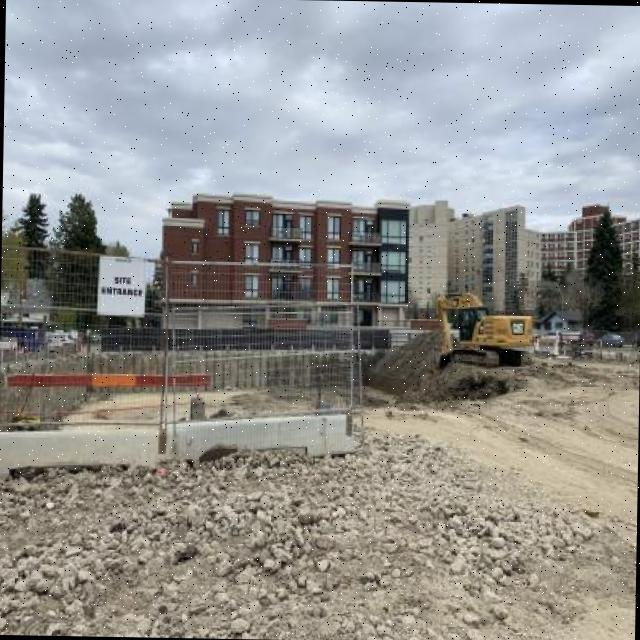Excavator: (430, 283, 532, 373)
